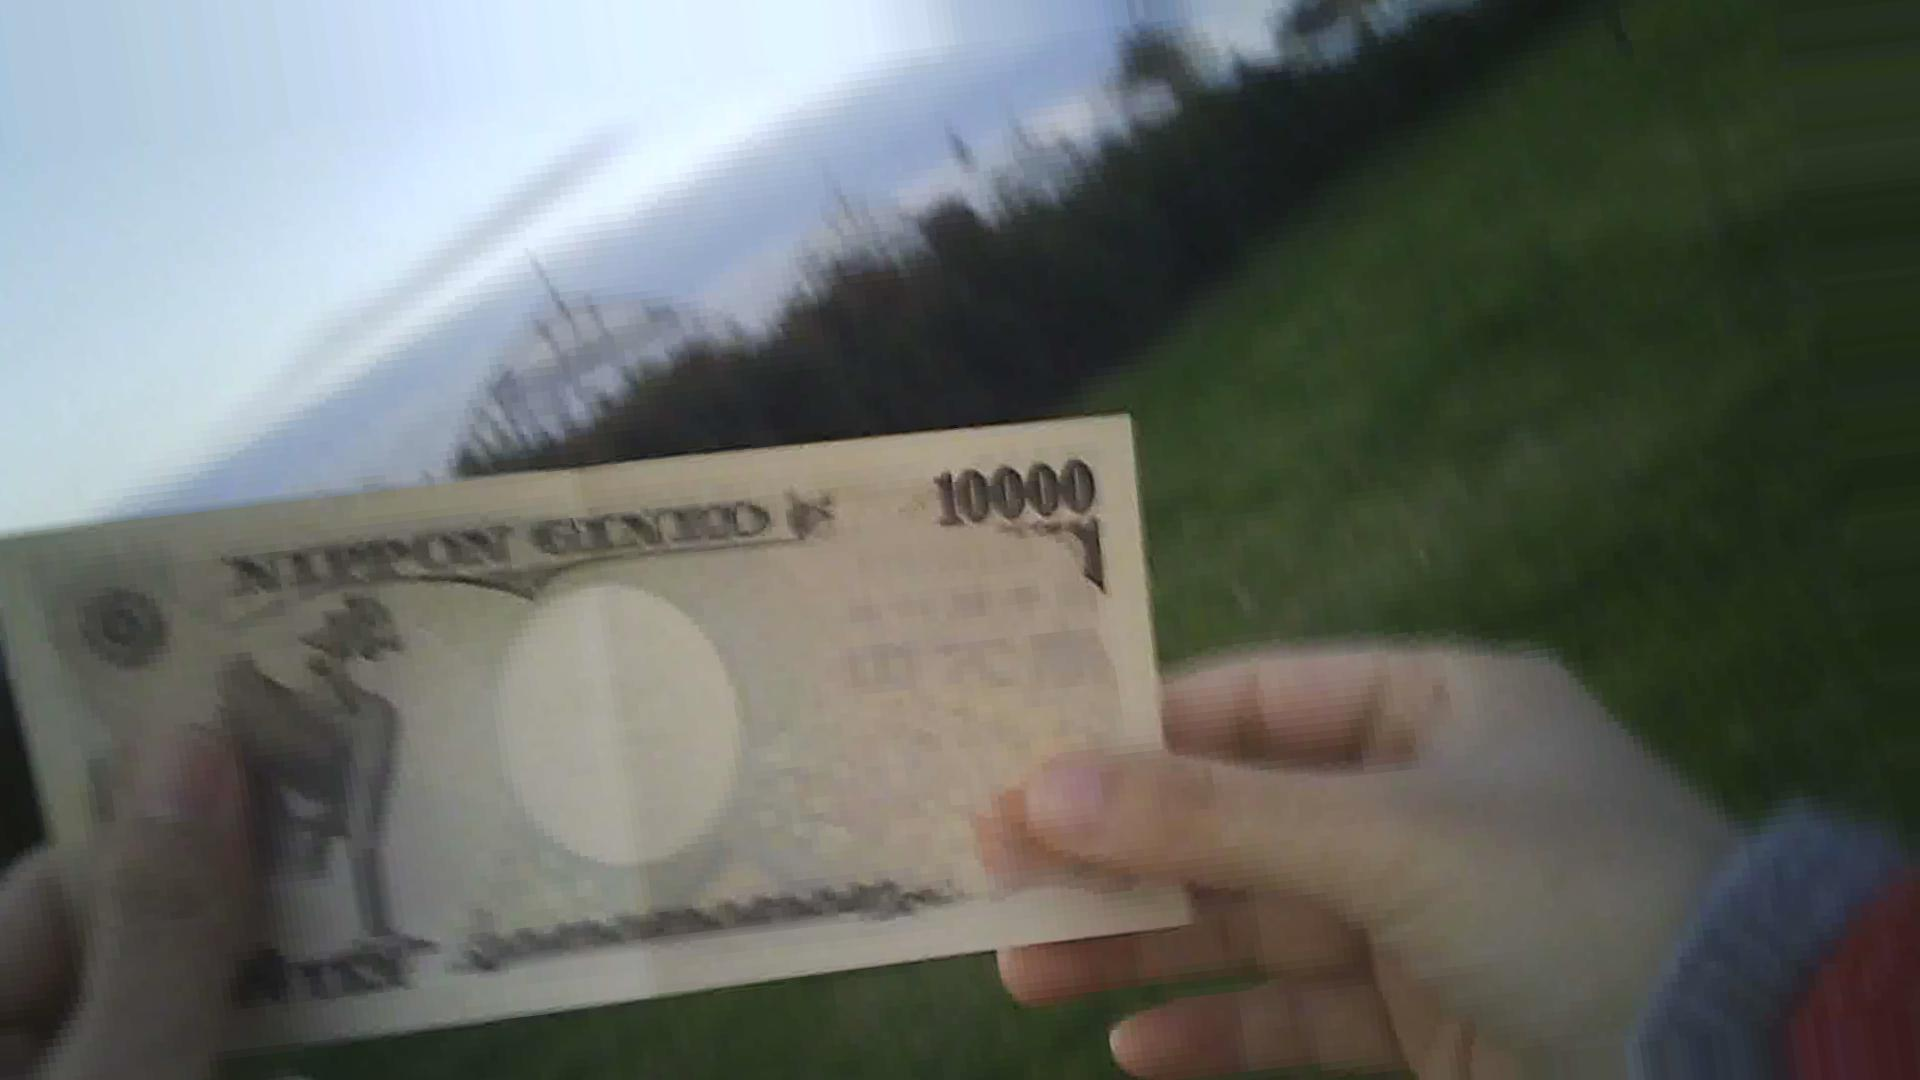10,000 Yen: (32, 407, 1265, 1023)
